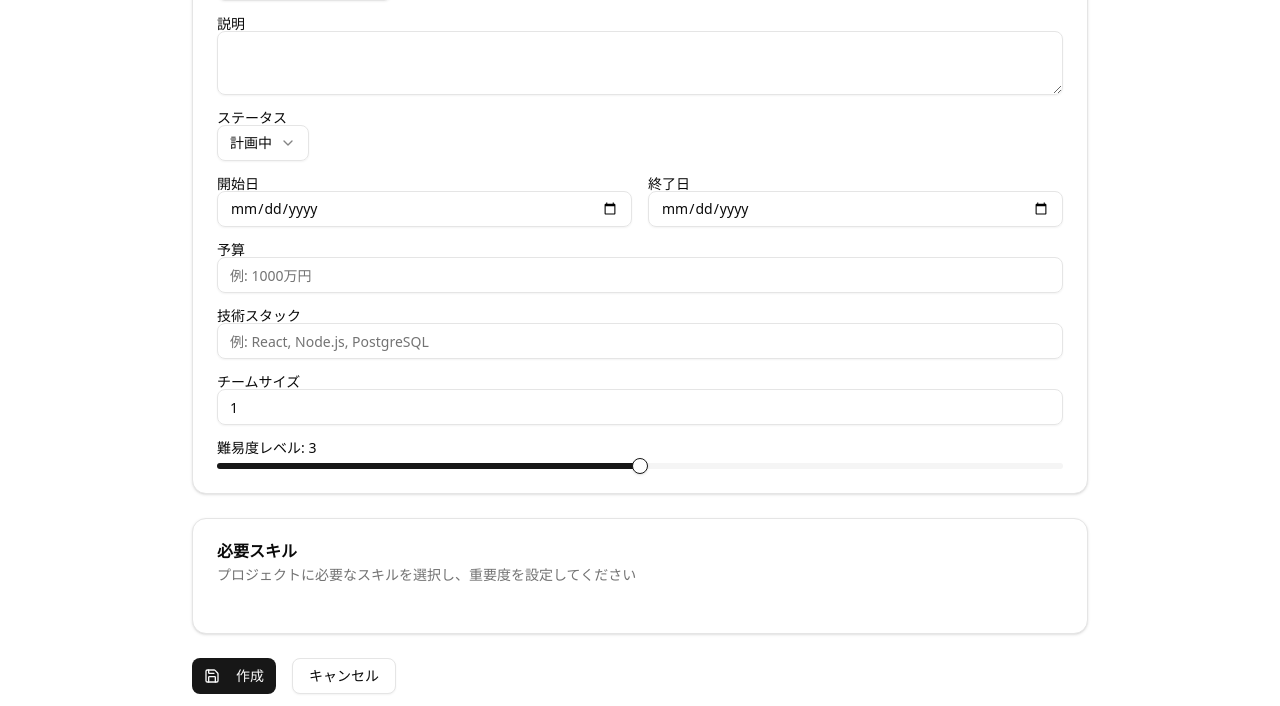
ProjectForm › 必須フィールドのバリデーションが機能する
This screenshot has width=1280, height=706.
(page scrolled)
Click the button "作成". click: x=234, y=676
box: top-left (192, 658), bottom-right (276, 694)
(page scrolled)
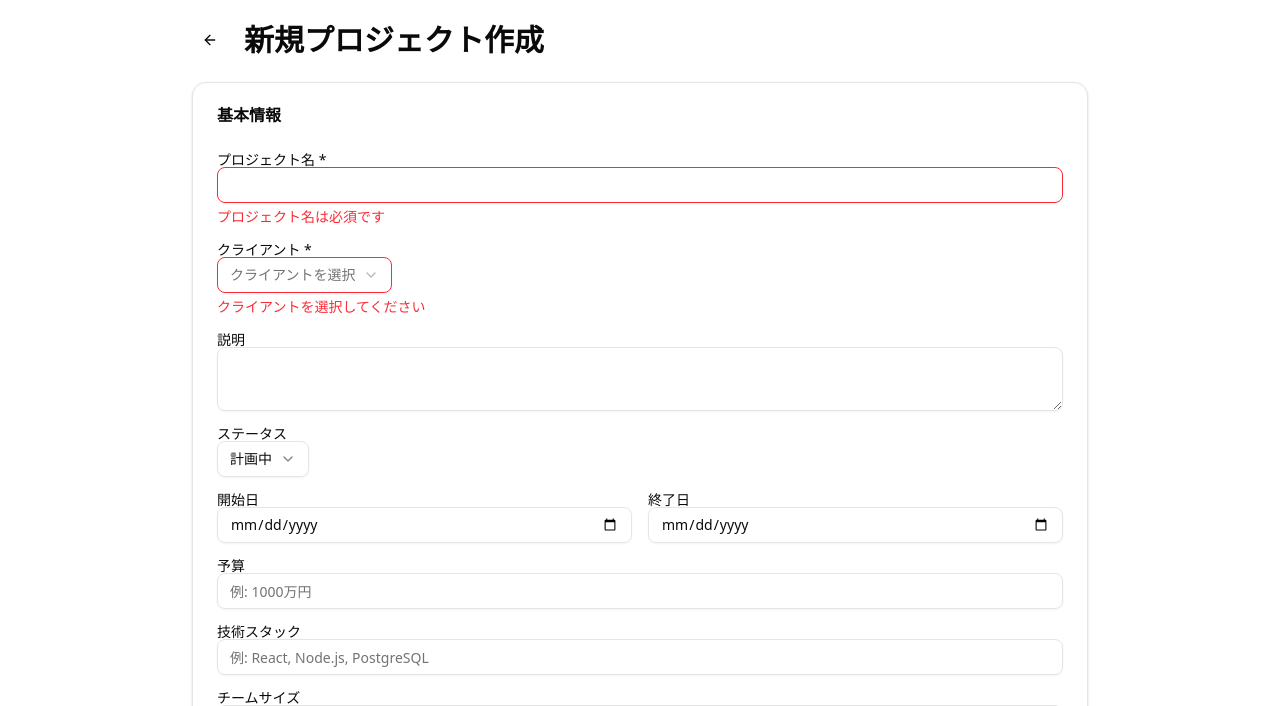
Expected: the text "プロジェクト名は必須です" is shown, top-left (217, 207), bottom-right (385, 226)
